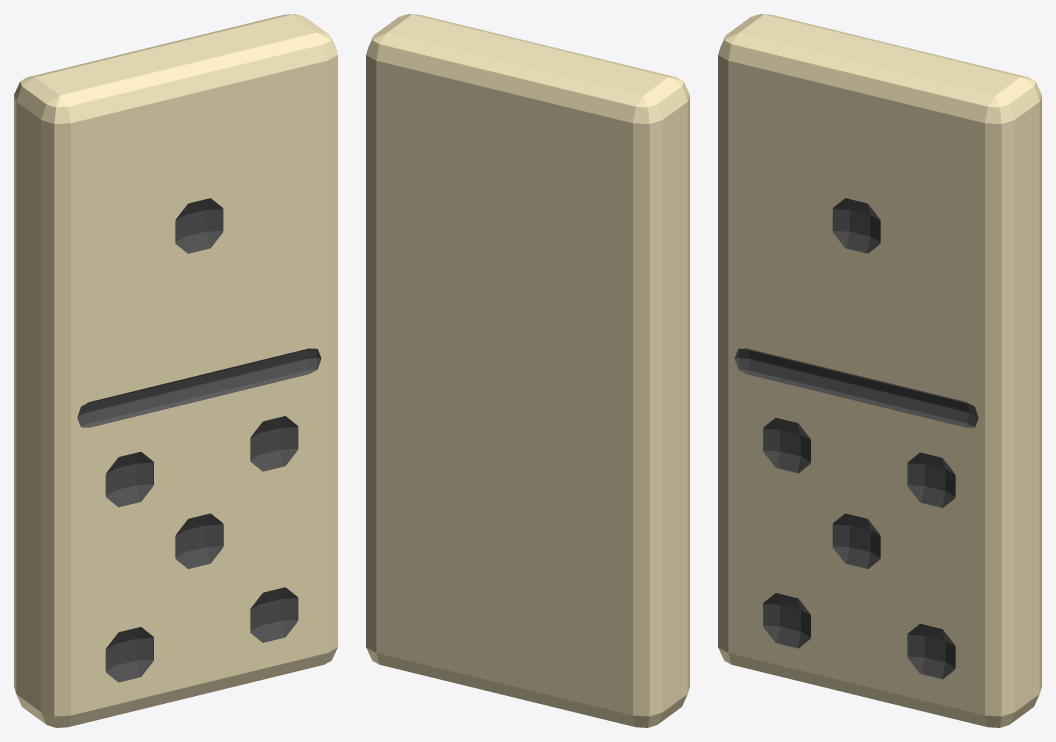
Rendered from dominoes 1x5.fbx.
The picture shows the model from 3 angles, left to right: view 1: azimuth 30°, elevation 25°; view 2: azimuth 150°, elevation 25°; view 3: azimuth 330°, elevation 25°; orthographic projection.
Parts seen in each view (by area): view 1: Boole_7; view 2: Boole_7; view 3: Boole_7.
Part boxes in pixels (x1,y1,x2,y2): Boole_7: [14, 14, 337, 727]; Boole_7: [366, 14, 689, 727]; Boole_7: [718, 14, 1041, 727].
Bounding box in the file's own units: 200 × 410 × 55.02.
